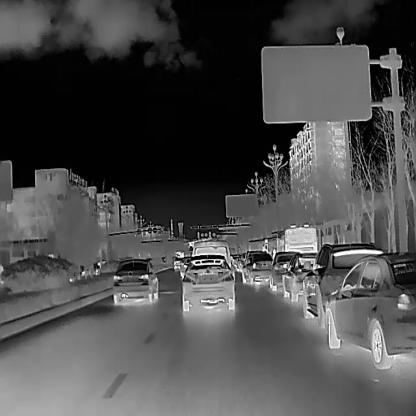bus: (267, 221, 317, 249), (248, 236, 266, 250)
car: (322, 252, 415, 373), (301, 242, 382, 327), (181, 254, 235, 310), (110, 257, 157, 301), (282, 252, 318, 302), (268, 250, 298, 291), (239, 251, 272, 282)
